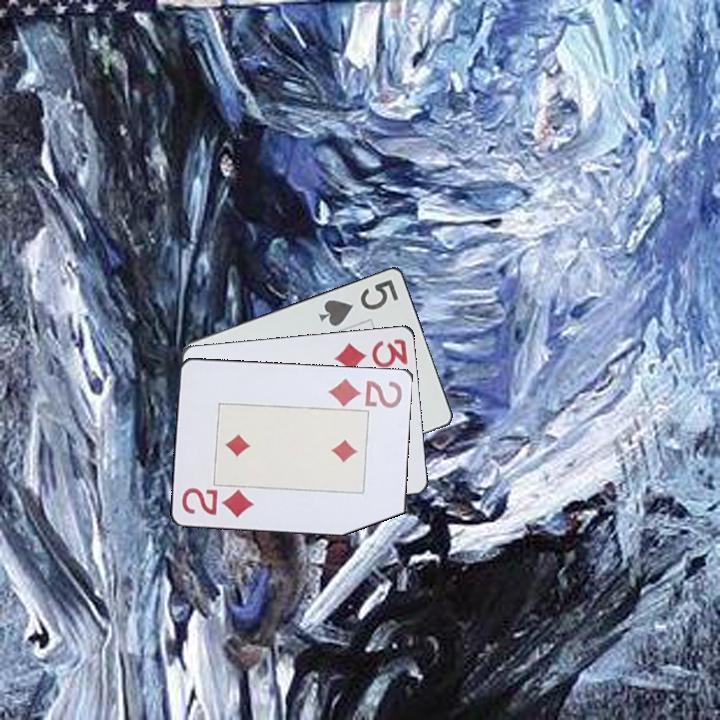2d: (323, 375, 405, 411), (178, 484, 258, 520)
3d: (331, 335, 411, 373)
5s: (315, 275, 402, 329)
